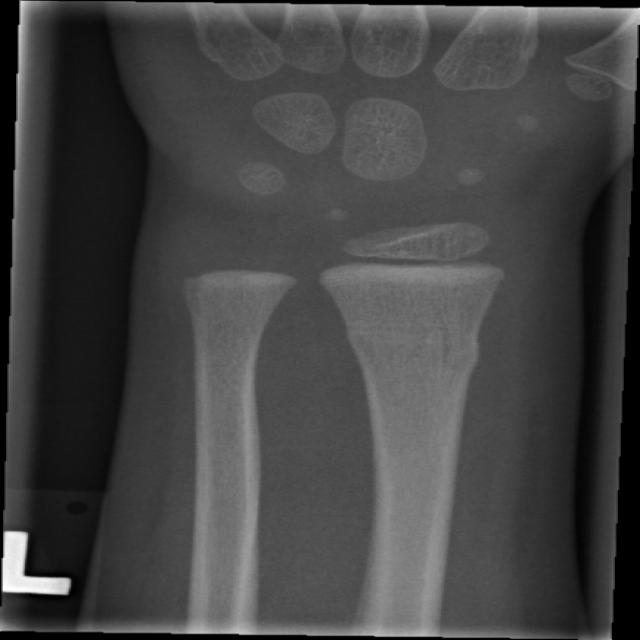radius fracture: (322, 322, 516, 406)
